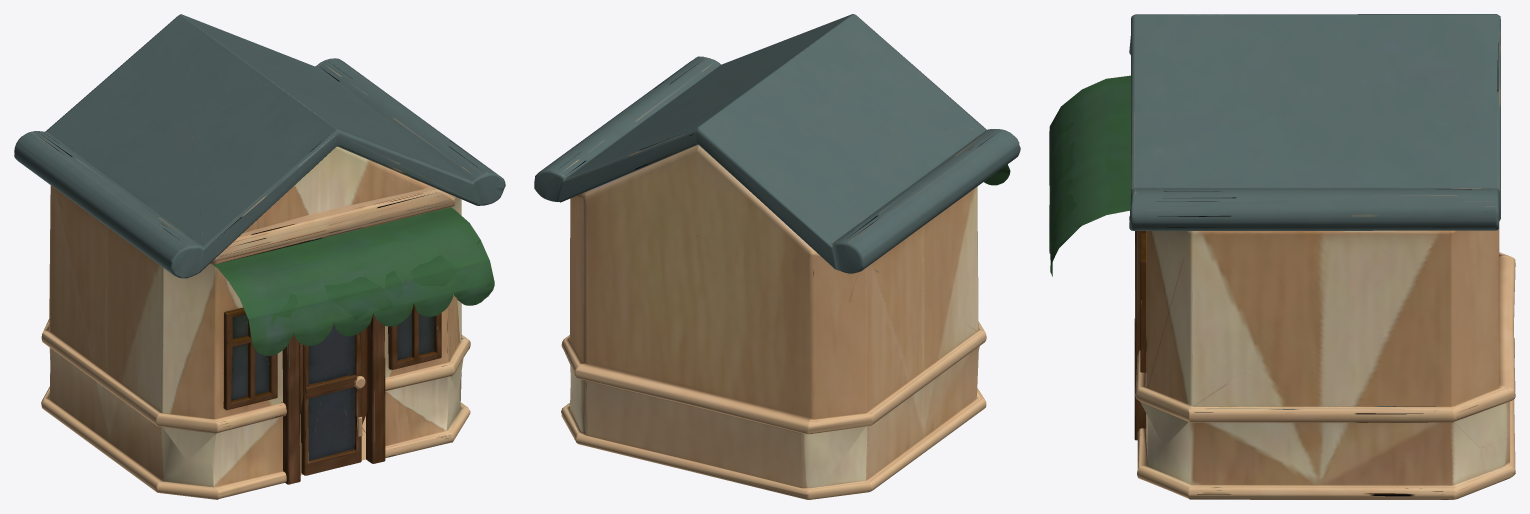
Rendered from 11-cafe.glb.
3 views of the same model, side by side, from view 1: azimuth 30°, elevation 25°; view 2: azimuth 150°, elevation 25°; view 3: azimuth 270°, elevation 25° (orthographic). The views are drawn at different scales.
Parts seen in each view (by area): view 1: geometry_0; view 2: geometry_0; view 3: geometry_0.
Boxes of the visible parts, x1,y1,x2,y2 form: geometry_0: [14, 14, 505, 499]; geometry_0: [534, 14, 1020, 499]; geometry_0: [1049, 14, 1515, 499].
Bounding box in the file's own units: 0.9165 × 0.8989 × 0.9531.
Materials: 1 (1 with a texture image).
